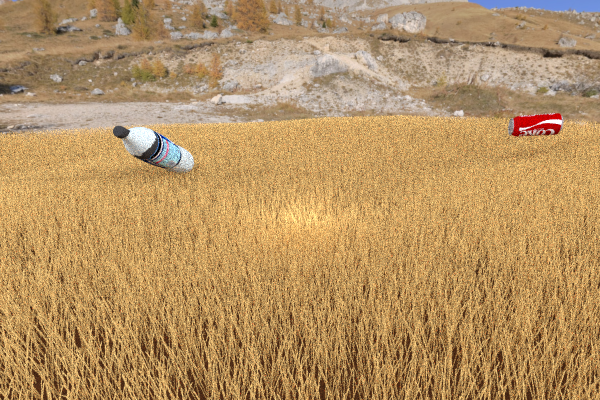bottle: (112, 125, 194, 174)
can: (270, 115, 311, 148), (508, 113, 563, 136)
